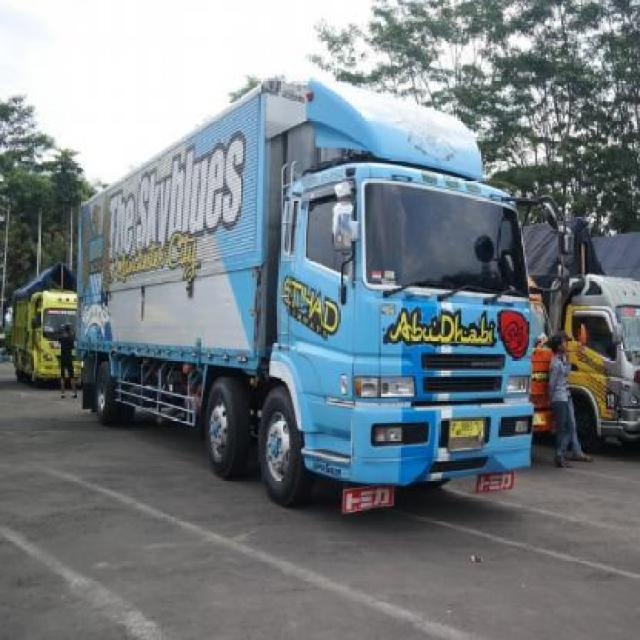truck: (77, 75, 536, 515), (12, 274, 85, 400)
